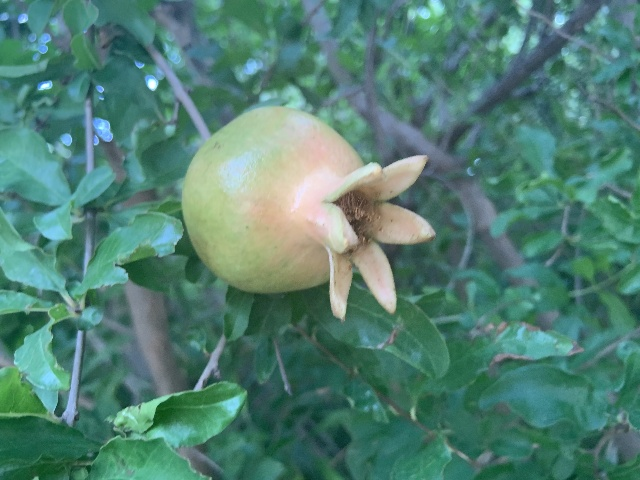mid-growth: (180, 106, 438, 319)
